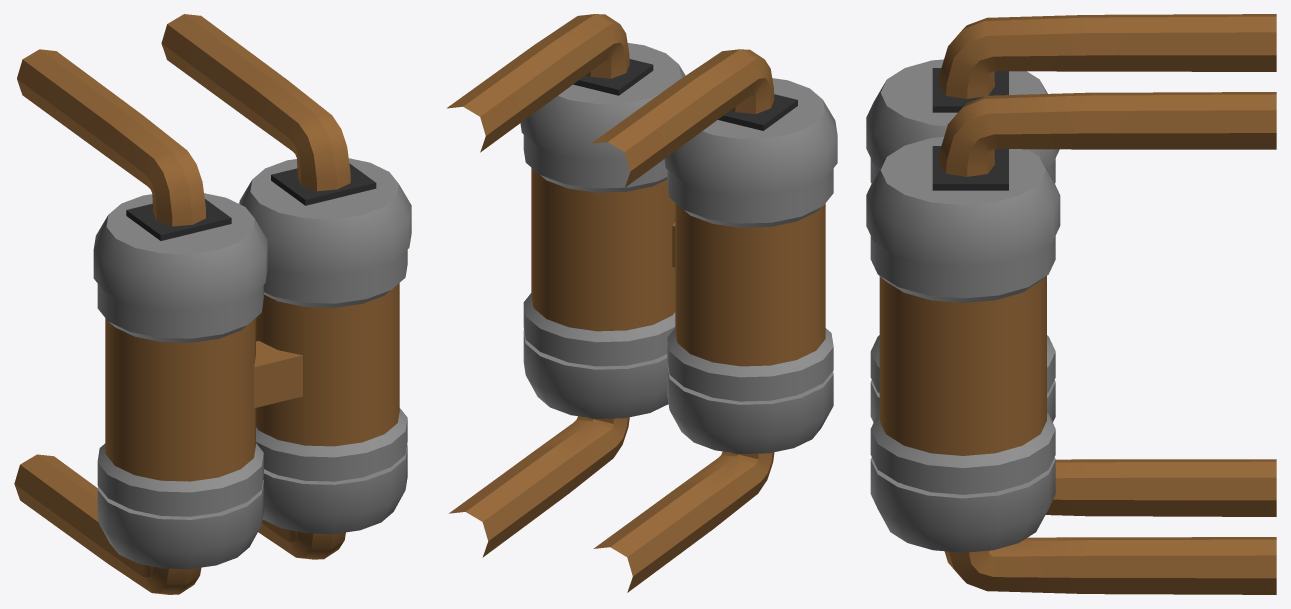
The model's file is Tank.glb.
3 renders of one model, left to right at view 1: azimuth 30°, elevation 25°; view 2: azimuth 150°, elevation 25°; view 3: azimuth 270°, elevation 25°, orthographic. The views are drawn at different scales.
Parts seen in each view (by area): view 1: Tank; view 2: Tank; view 3: Tank.
Boxes of the visible parts, x1=… form: Tank: x1=14, y1=14, x2=411, y2=594; Tank: x1=446, y1=14, x2=837, y2=592; Tank: x1=866, y1=14, x2=1276, y2=594.
Bounding box in the file's own units: 0.569 × 0.831 × 0.619.
